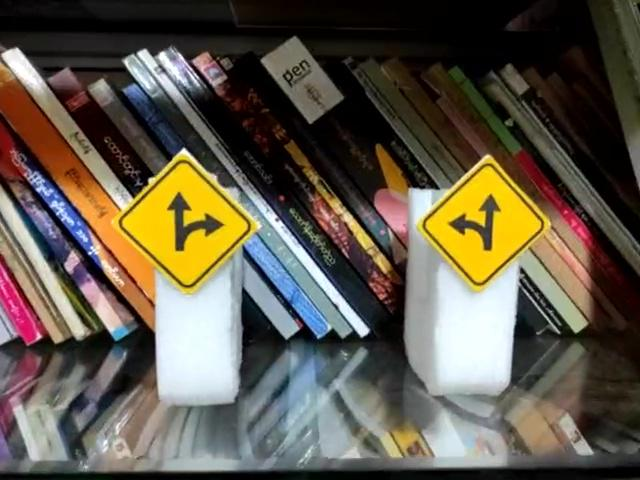Straight Or Left Sign: (421, 151, 548, 291)
Straight Or Right Sign: (113, 149, 257, 289)
